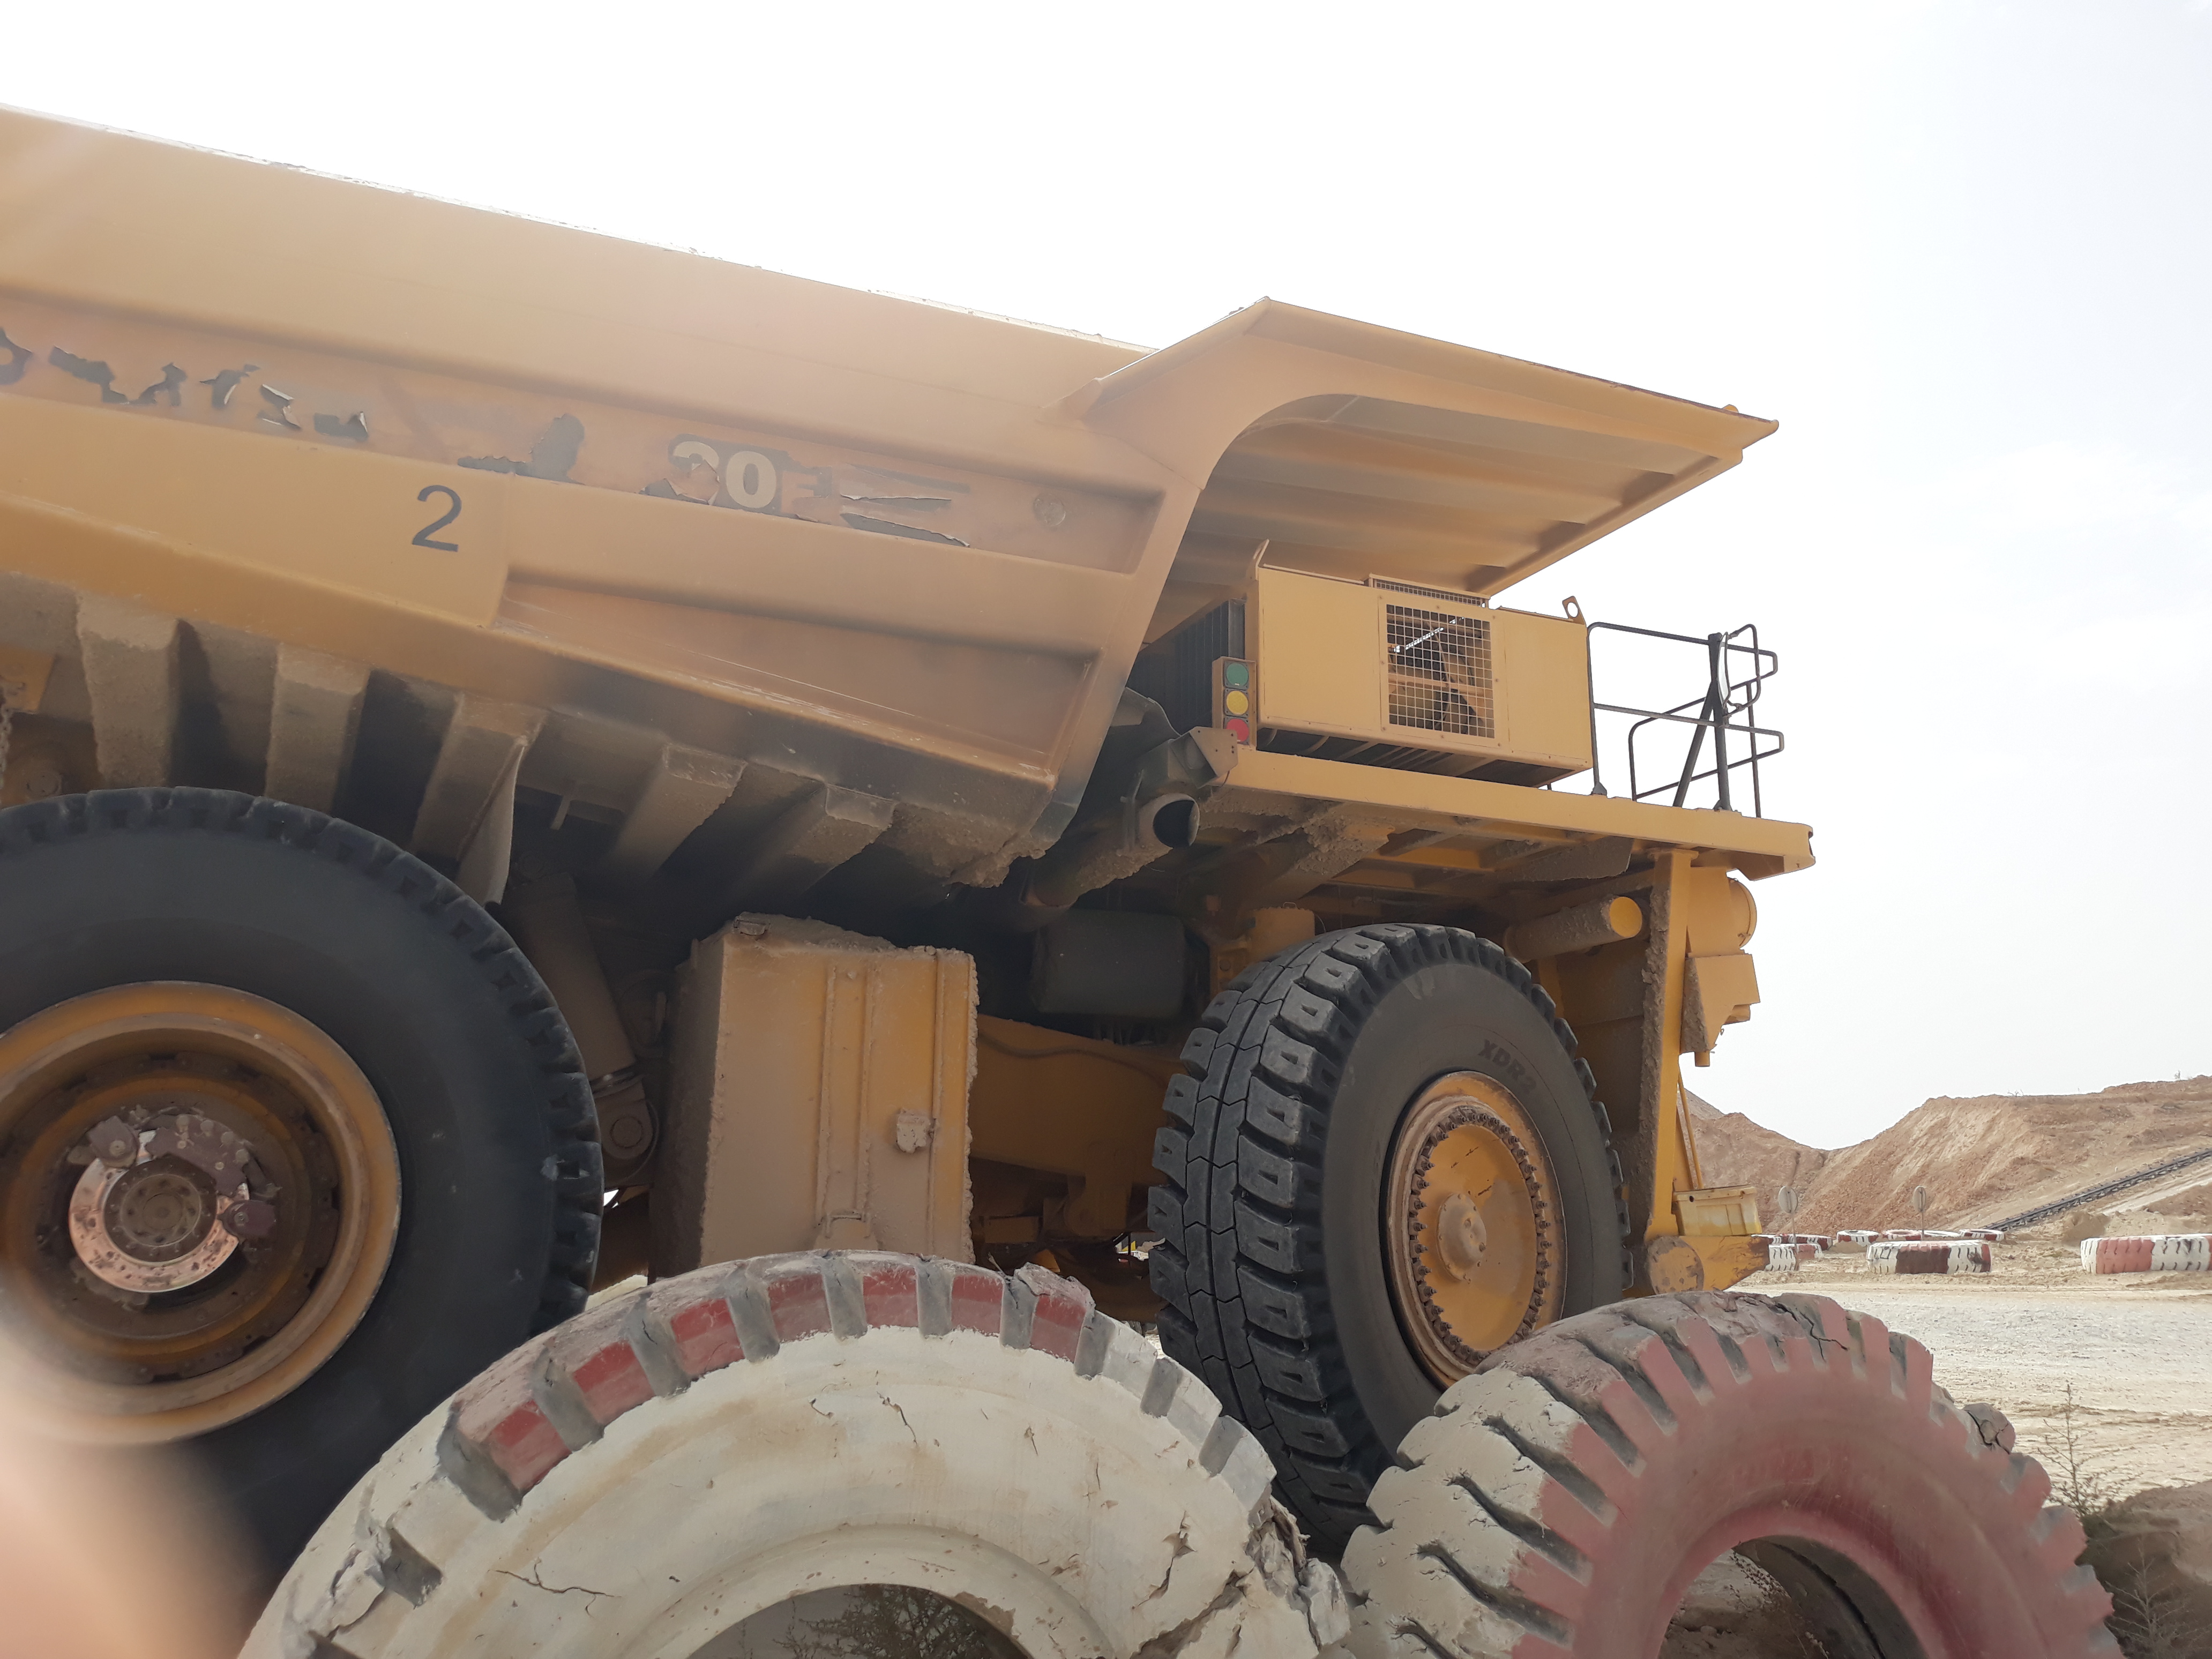camion: (0, 148, 1895, 1626)
